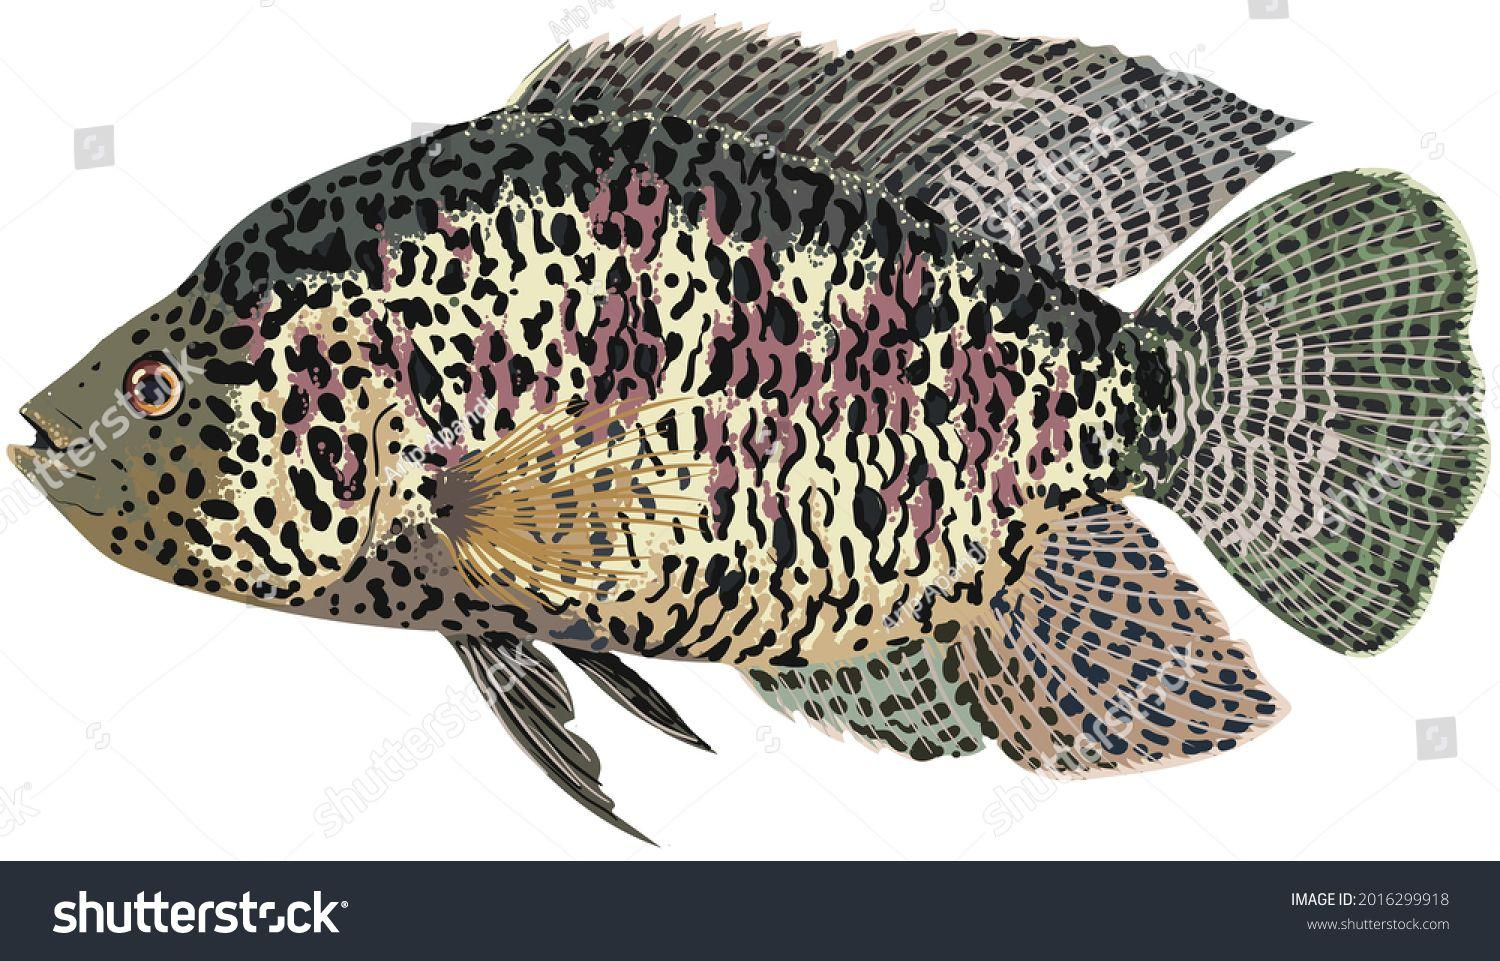Jaguar Gapote: (23, 20, 1480, 849)
